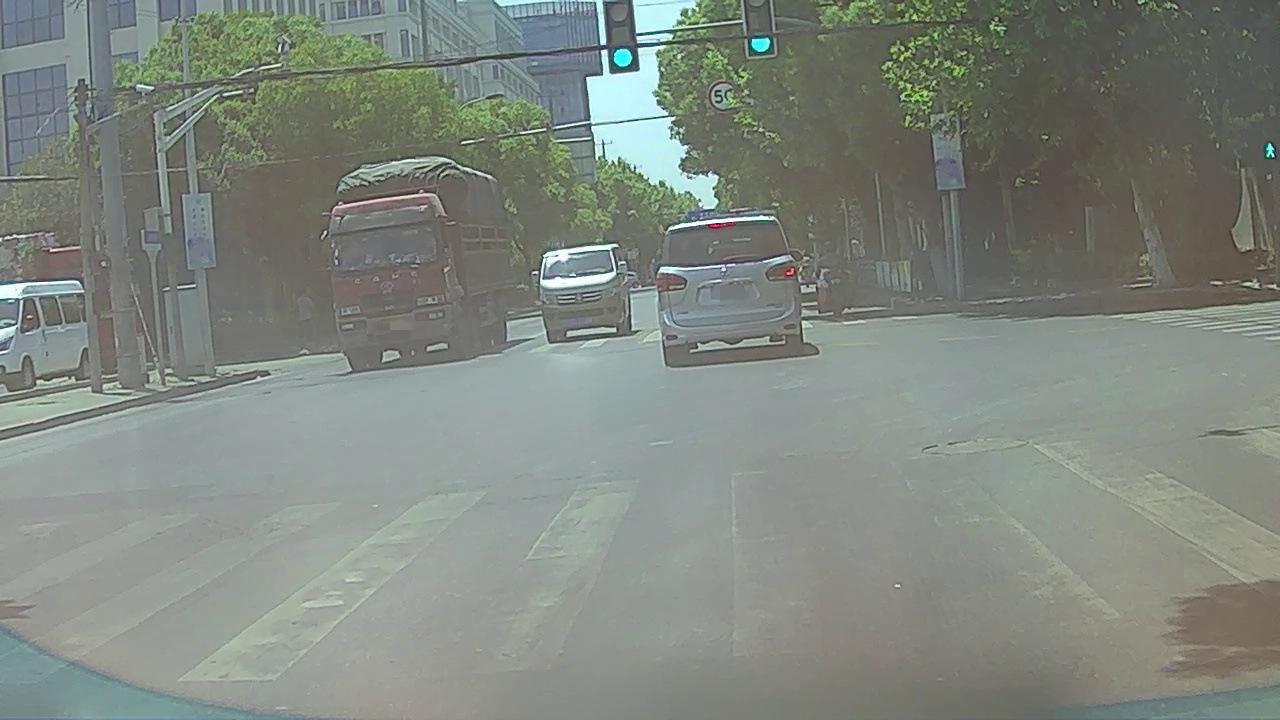traffic_light: (604, 1, 640, 71), (744, 1, 776, 55)
